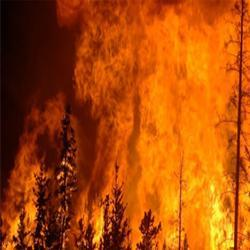fire: (143, 21, 238, 230)
